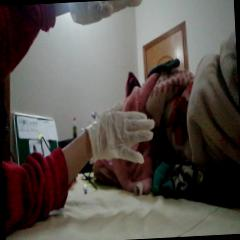gloved: (89, 100, 156, 167), (70, 0, 146, 27)
